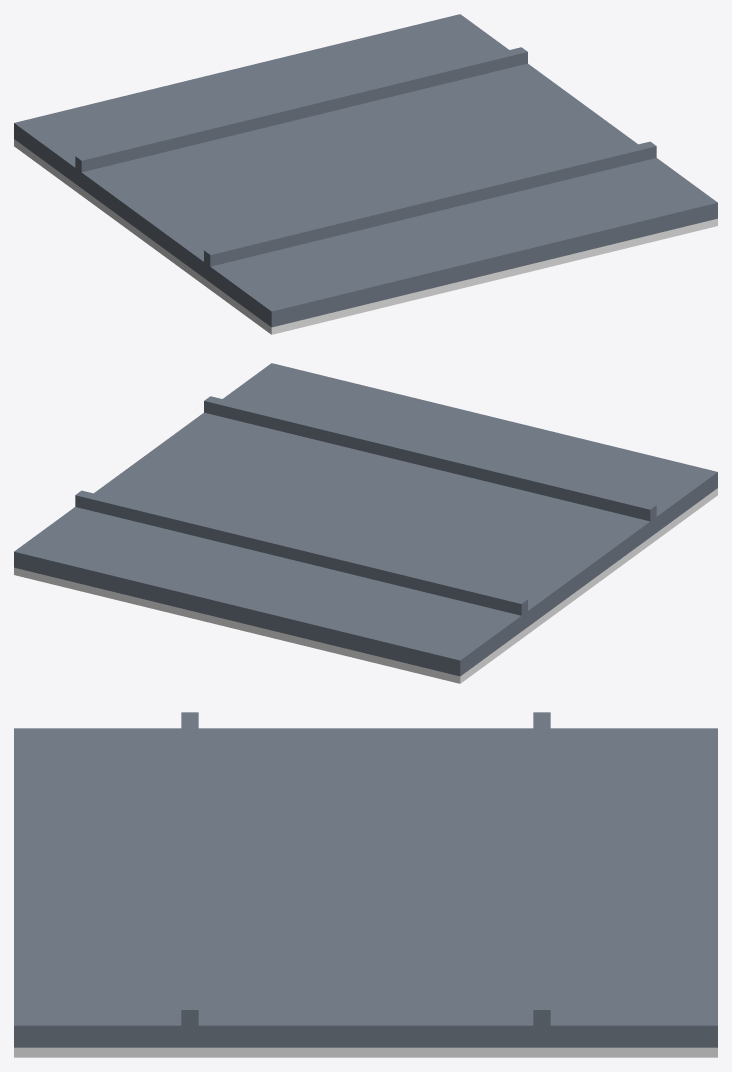
The model's file is SM_roof_01.glb.
3 renders of one model, top to bottom at view 1: azimuth 30°, elevation 25°; view 2: azimuth 150°, elevation 25°; view 3: azimuth 270°, elevation 25°, orthographic. The views are drawn at different scales.
Visible parts, largest first — view 1: SM_roof_01; view 2: SM_roof_01; view 3: SM_roof_01.
Part boxes in pixels (<box>): SM_roof_01: <box>14,14,717,334</box>; SM_roof_01: <box>14,363,717,683</box>; SM_roof_01: <box>14,712,717,1057</box>.
Size of the model in its own units: 4 by 0.3 by 4.
1 material, 1 textured.
